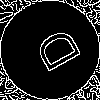D: (25, 25, 83, 80)
